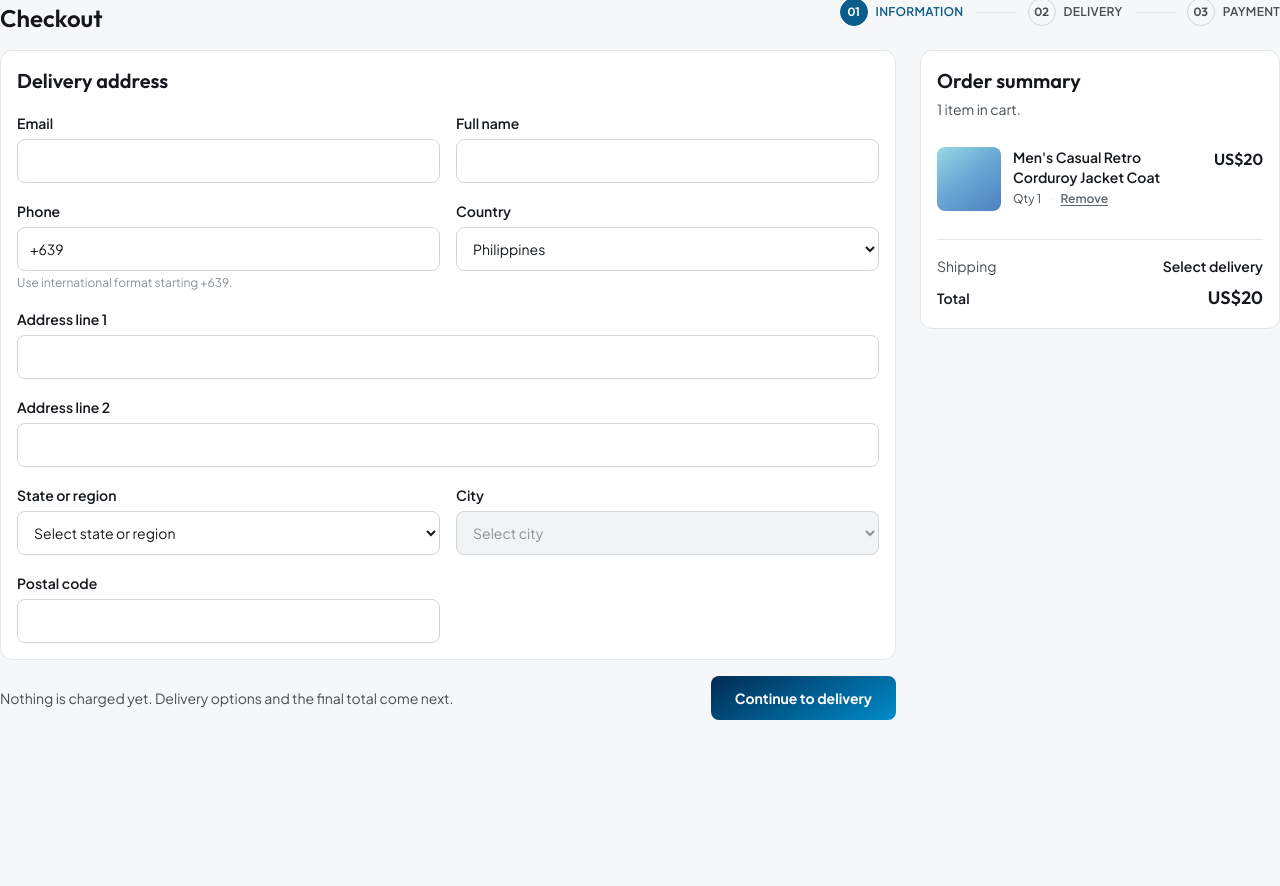
Test case: checkout flow across routes › renders and selects three fixed tier cards independently per package
In the field labelled "Email": (228, 161) 17,139 -> 440,183, type "buyer@example.com"
In the field labelled "Full name": (668, 161) 456,139 -> 879,183, type "Buyer Example"
Replace the text in the field labelled "Phone" with "+639171234567": (228, 249) 17,227 -> 440,271
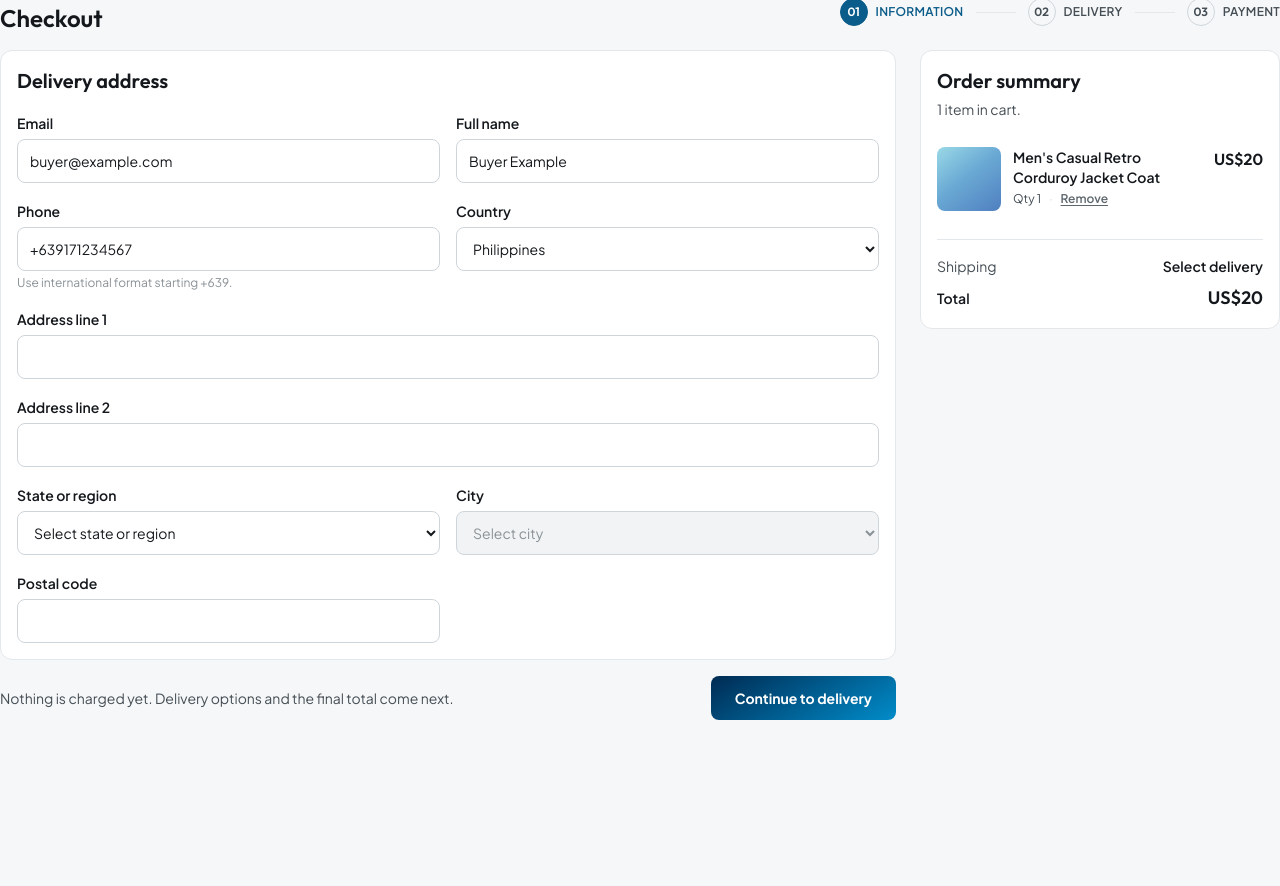
In the field labelled "Address line 1": (448, 357) 17,335 -> 879,379, type "123 Main Street"
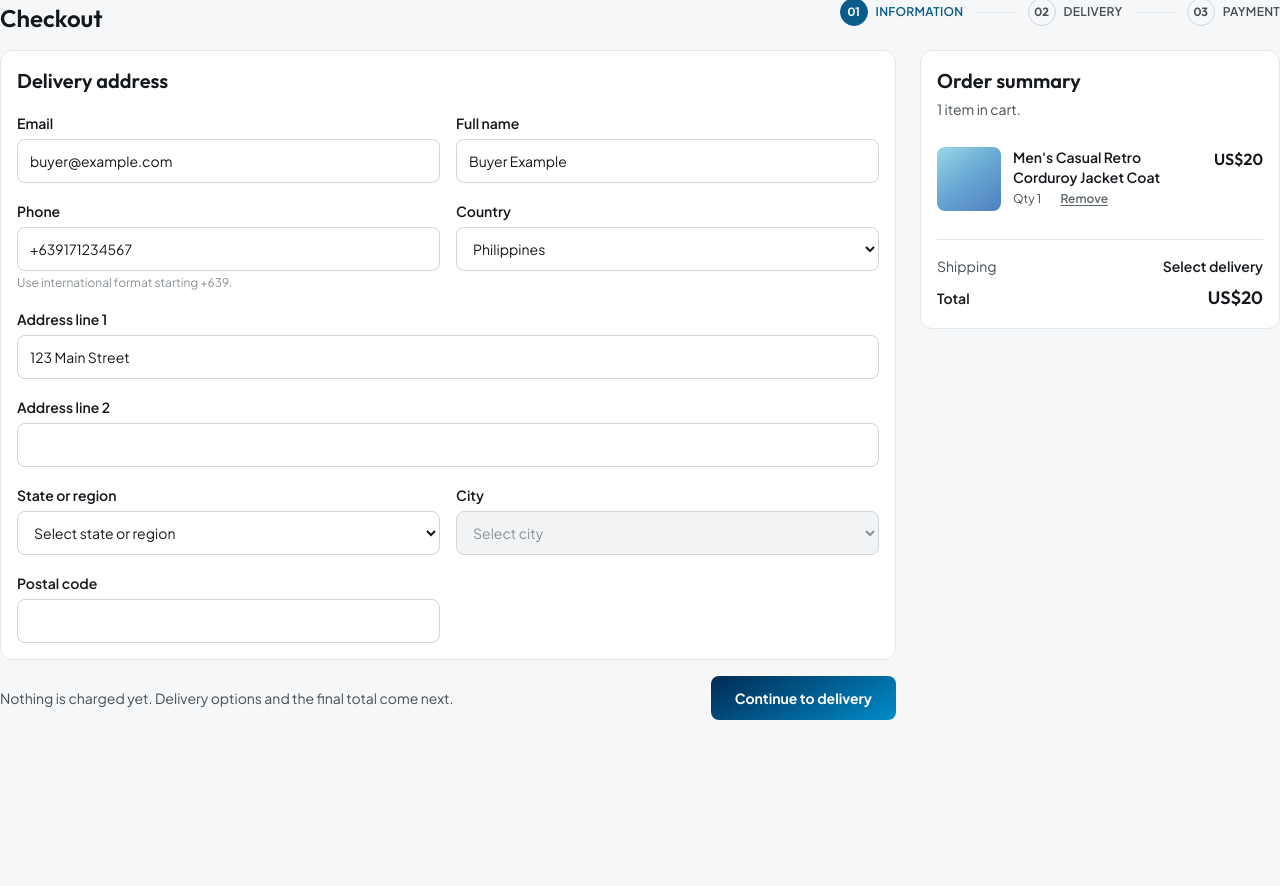
Select "National Capital Region (NCR)" in the dropdown labelled "State or region": (228, 533) 17,511 -> 440,555
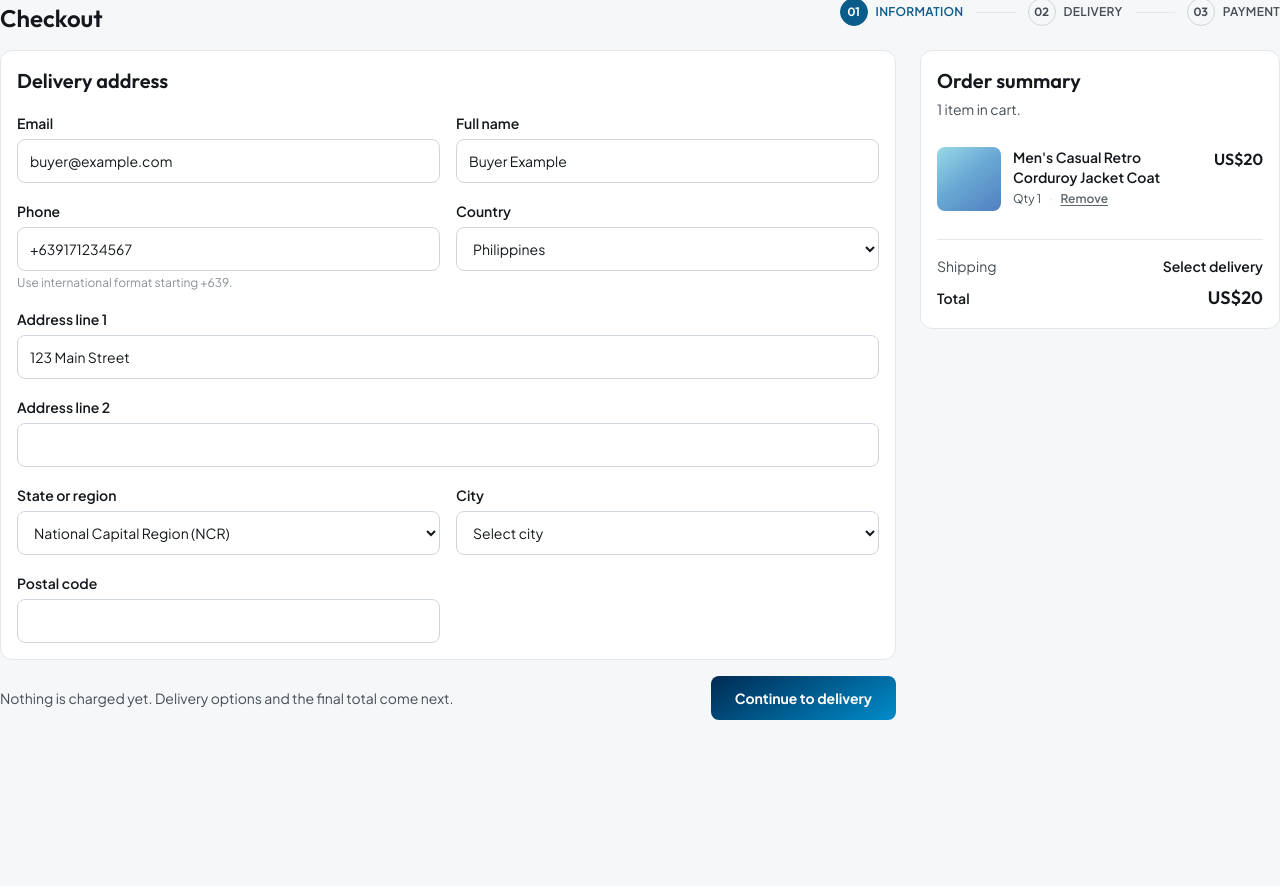
Select "Manila" in the dropdown labelled "City": (668, 533) 456,511 -> 879,555
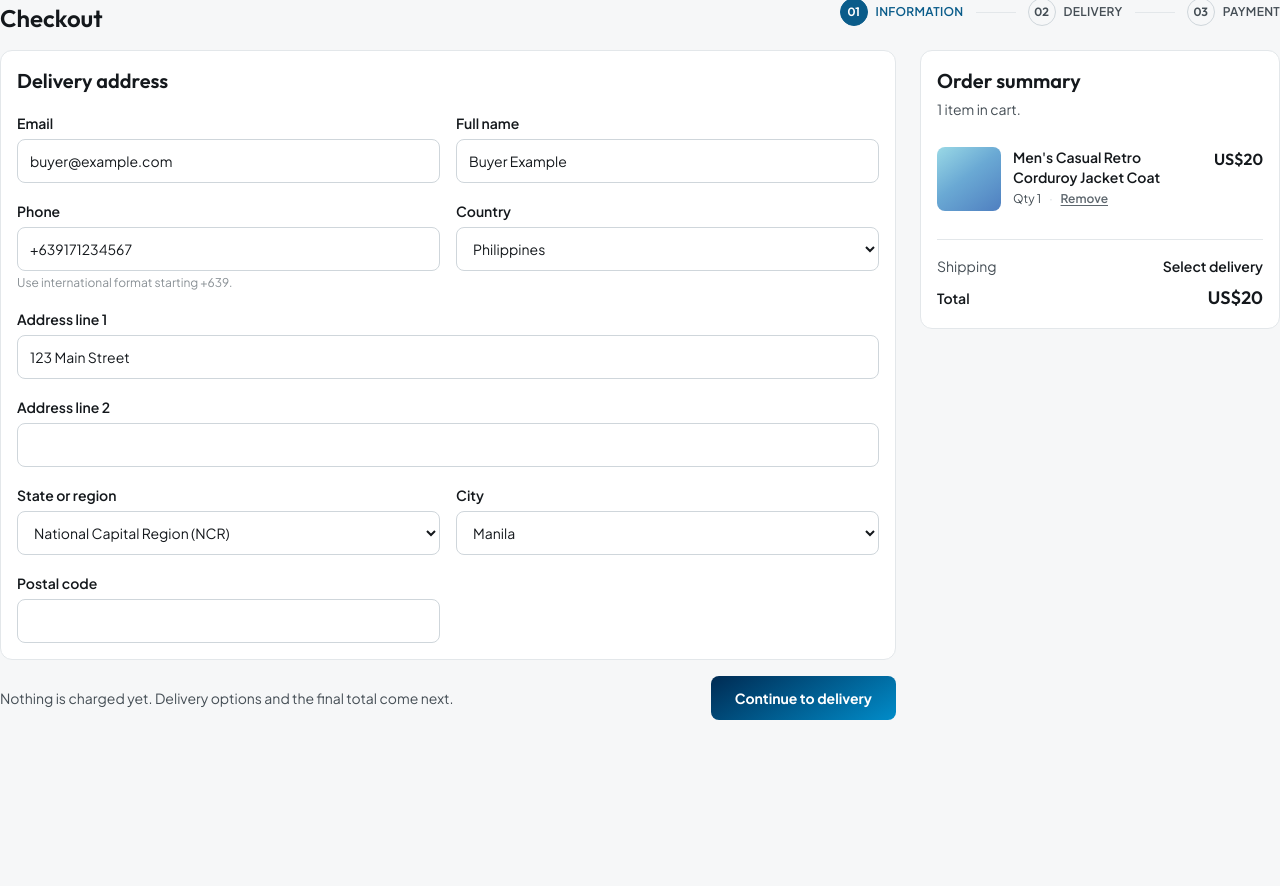
In the field labelled "Postal code": (228, 621) 17,599 -> 440,643, type "1000"
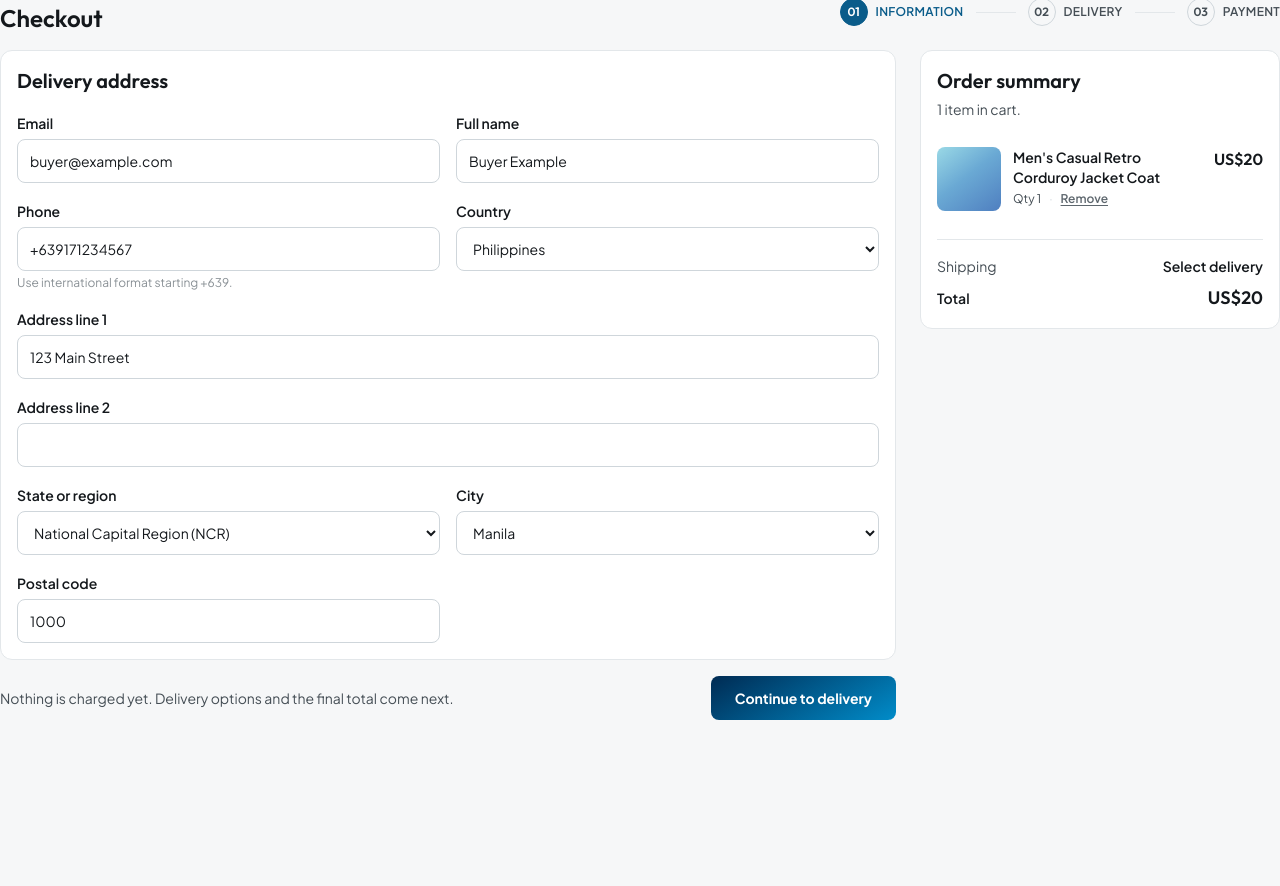
Click the button "Continue to delivery": (803, 698) 711,676 -> 896,720
(page scrolled)
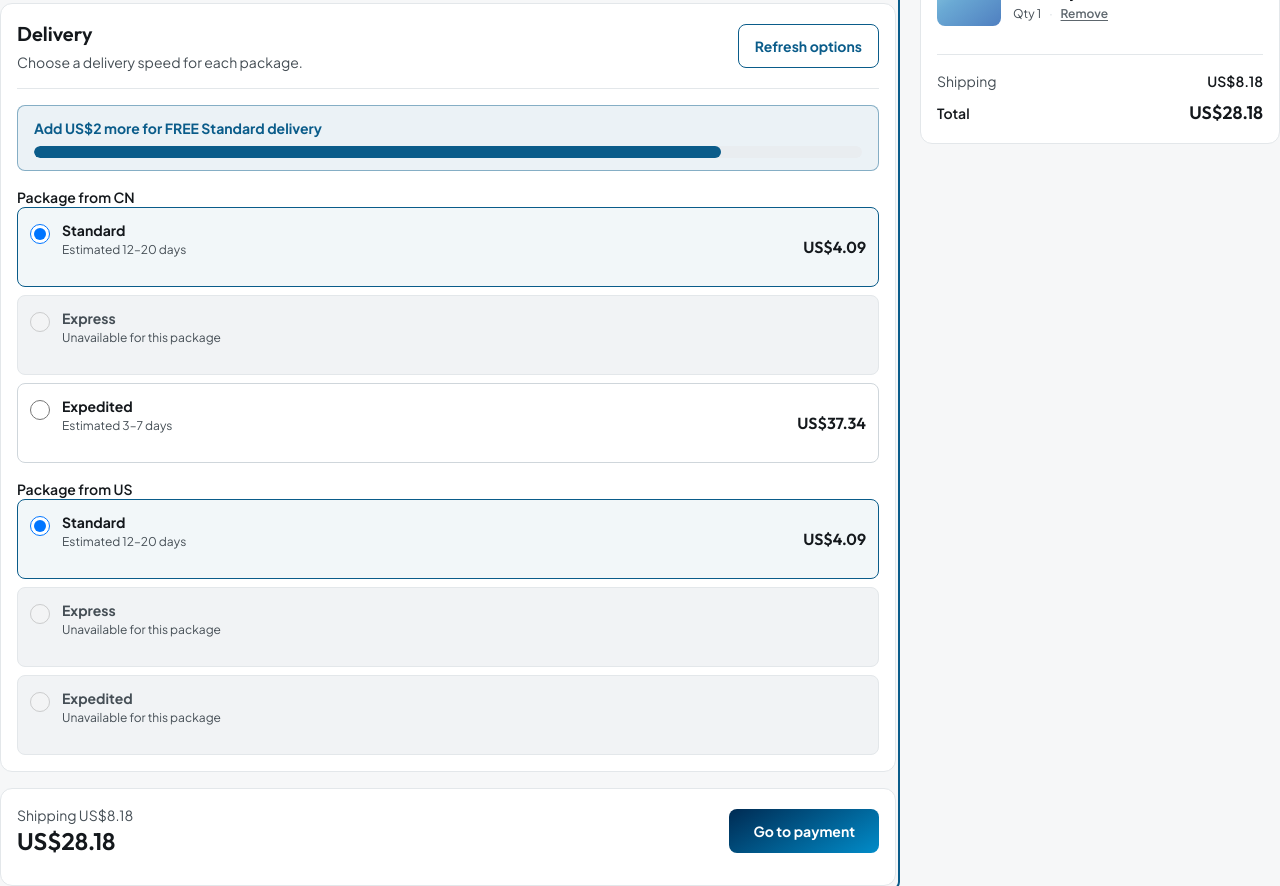
Expected: the number of radio buttons is 6, 30,224 -> 50,244; 30,312 -> 50,332; 30,400 -> 50,420; 30,516 -> 50,536; 30,604 -> 50,624; 30,692 -> 50,712
Expected: the number of radio buttons labelled "Standard" is 2, 30,224 -> 50,244; 30,516 -> 50,536
Expected: the radio button labelled "Standard" below "CN" is checked, 30,224 -> 50,244
